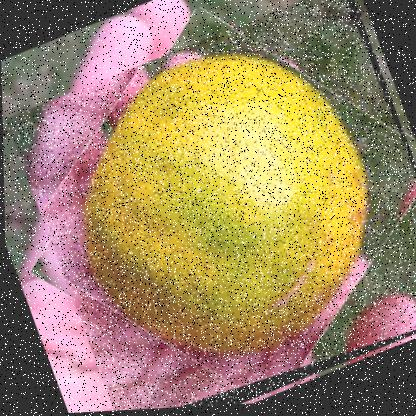orange: (1, 0, 415, 415)
